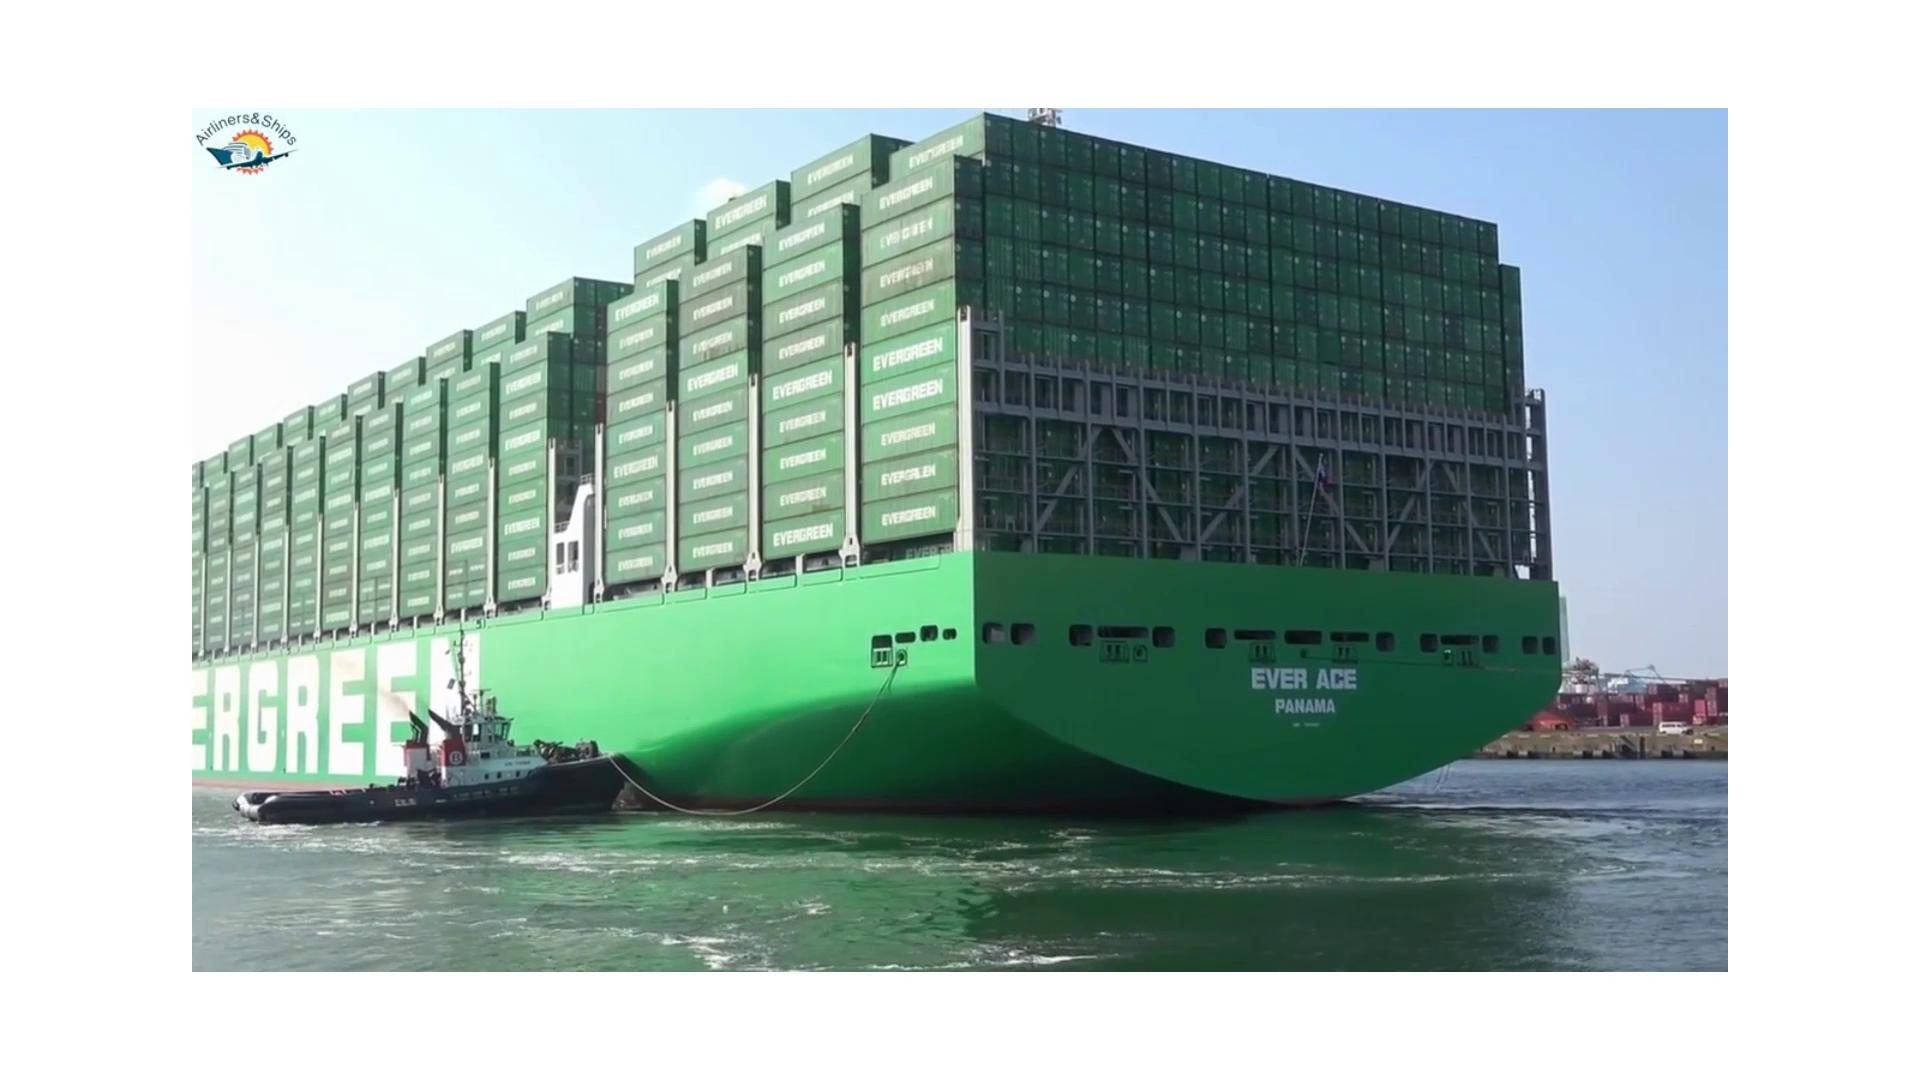OCR: (203, 621, 531, 811), (1233, 641, 1398, 757)
